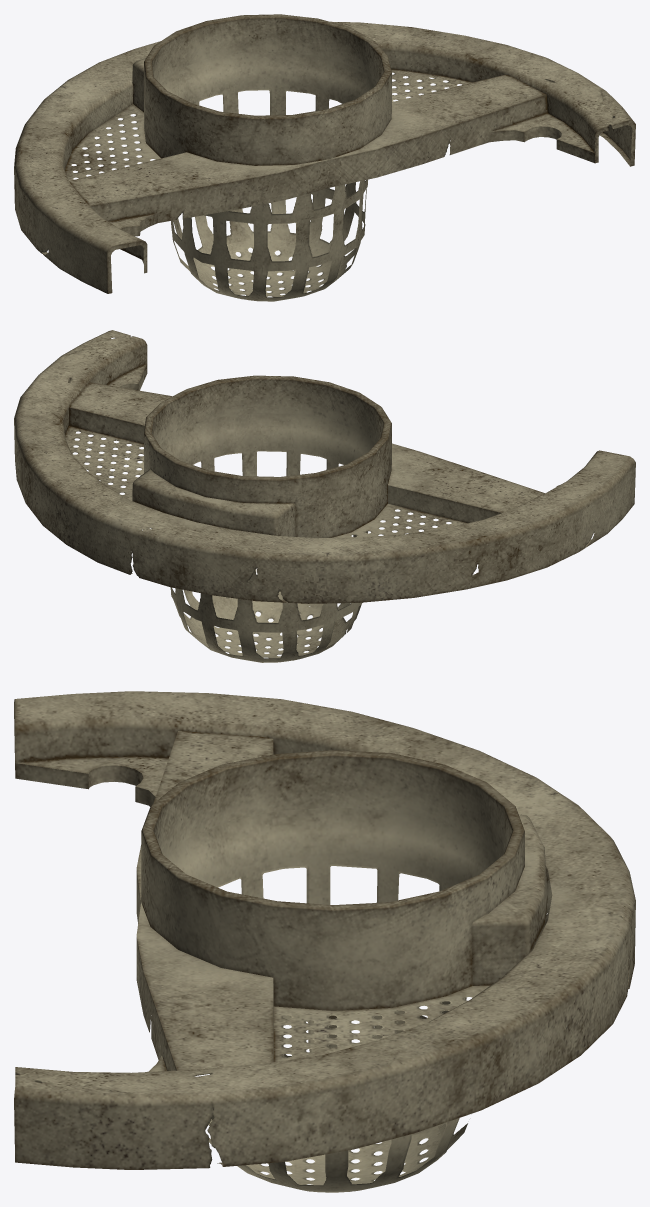
File: MopPailCover.fbx
3 views of the same model, one above another, from view 1: azimuth 30°, elevation 25°; view 2: azimuth 150°, elevation 25°; view 3: azimuth 270°, elevation 25° (orthographic). The views are drawn at different scales.
Visible parts, largest first — view 1: MopPailCover; view 2: MopPailCover; view 3: MopPailCover.
Part boxes in pixels (x1,y1,x2,y2): MopPailCover: (14, 14, 635, 301); MopPailCover: (14, 330, 635, 662); MopPailCover: (14, 691, 635, 1192).
Bounding box in the file's own units: 52.26 × 20.01 × 33.3.
